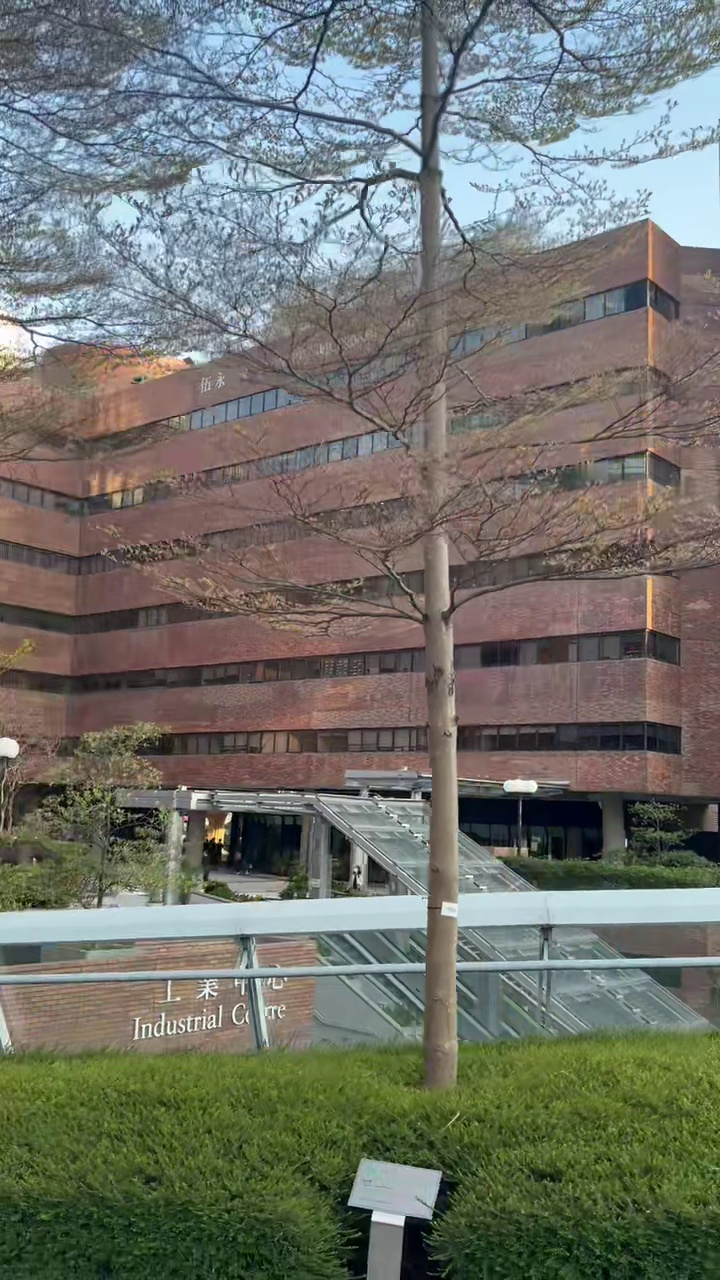Terminalia mantaly: (0, 0, 719, 1088)
